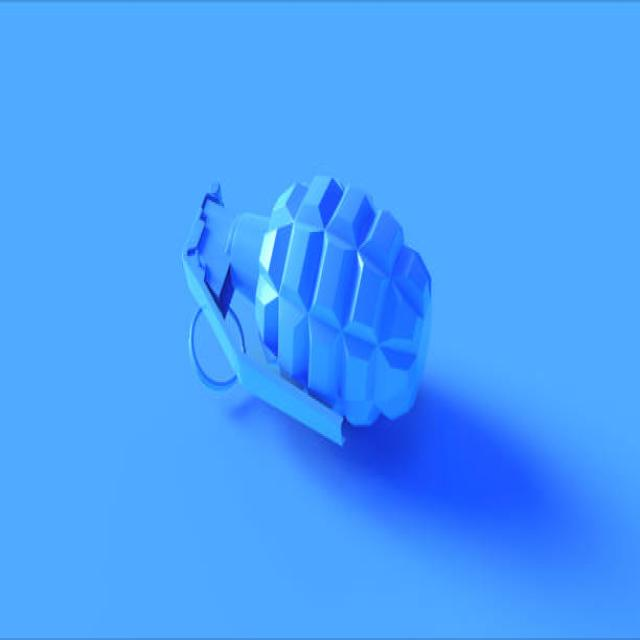grenade: (179, 169, 437, 456)
